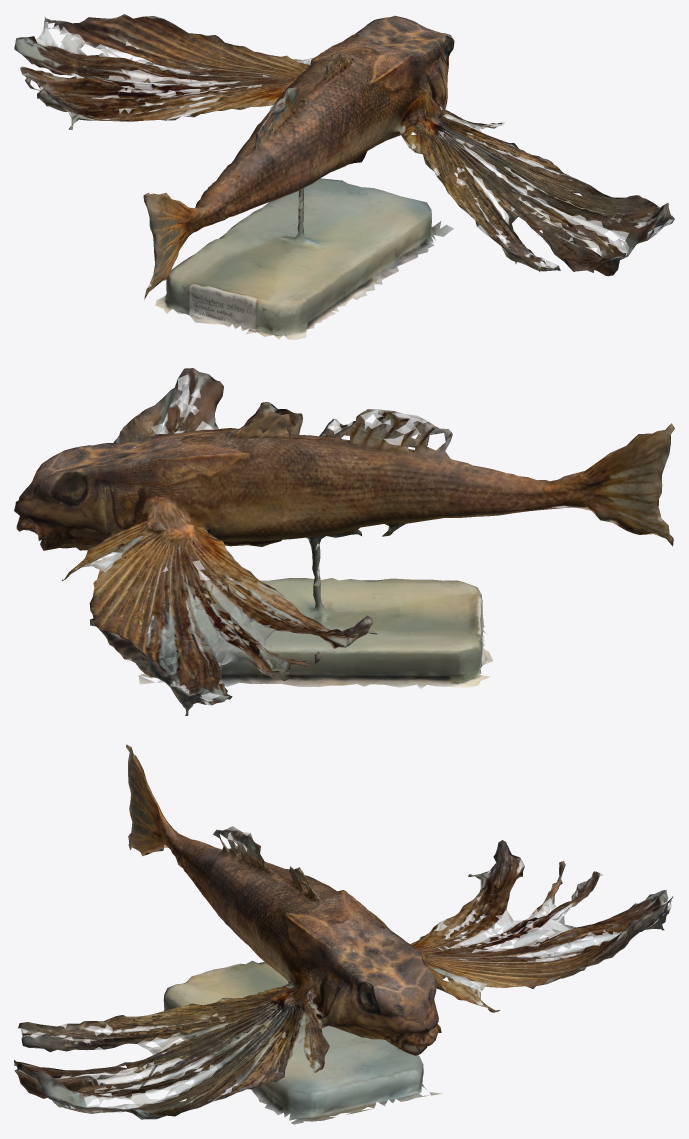
3 views of the same model, one above another, from view 1: azimuth 30°, elevation 25°; view 2: azimuth 150°, elevation 25°; view 3: azimuth 270°, elevation 25° (orthographic). The views are drawn at different scales.
Parts seen in each view (by area): view 1: model_C770092F; view 2: model_C770092F; view 3: model_C770092F.
Boxes of the visible parts, x1=… form: model_C770092F: x1=14, y1=14, x2=674, y2=339; model_C770092F: x1=14, y1=368, x2=674, y2=715; model_C770092F: x1=14, y1=744, x2=672, y2=1124.
Bounding box in the file's own units: 1.16 × 0.4632 × 1.34.
Materials: 2 (2 with a texture image).
